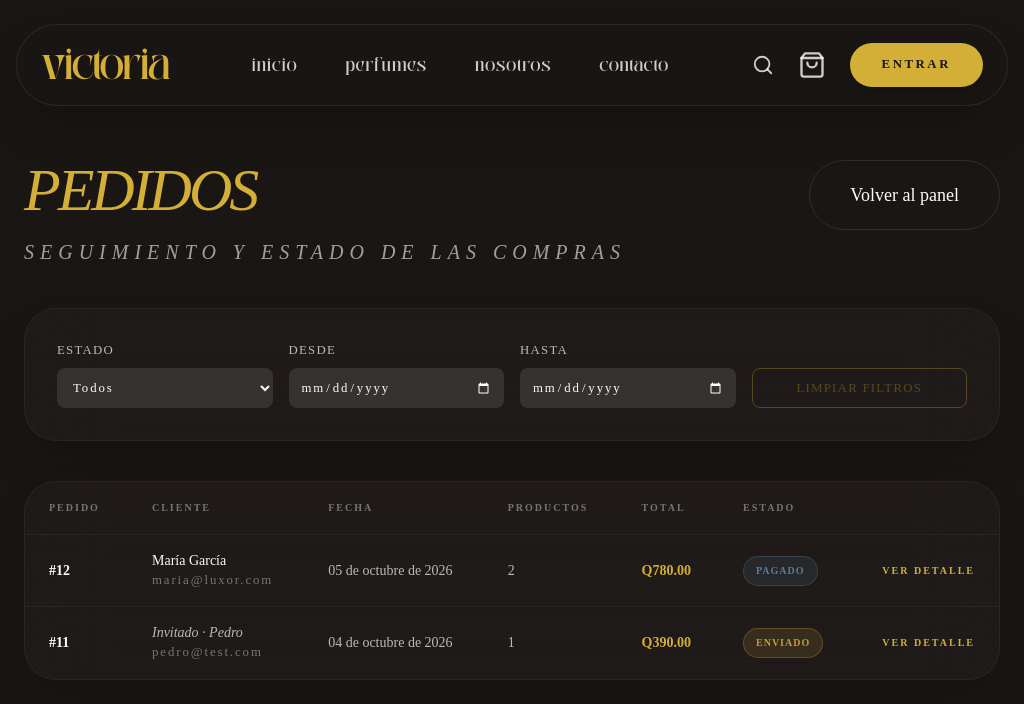
Test: AdminOrdersPage › cancelar pide confirmación, avisa del stock y después actualiza la lista
Step 1. Click the text "#12" → (52, 570), box [25, 535, 128, 607]
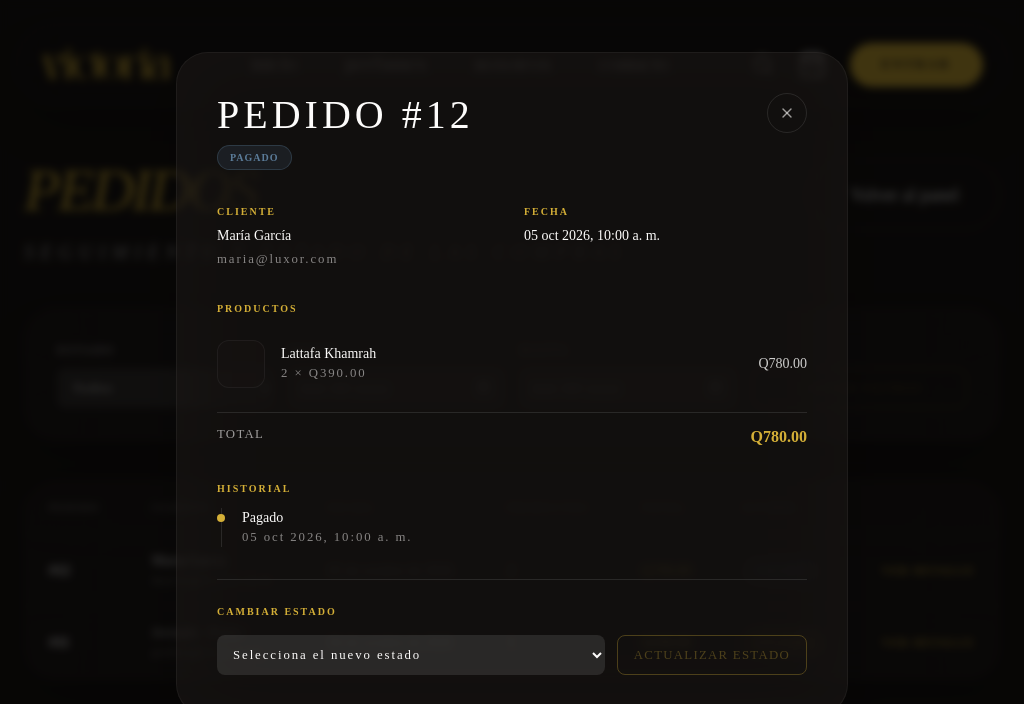
Step 2. Select "Cancelado" in the dropdown named "Nuevo estado" → (411, 655), box [217, 635, 605, 675]
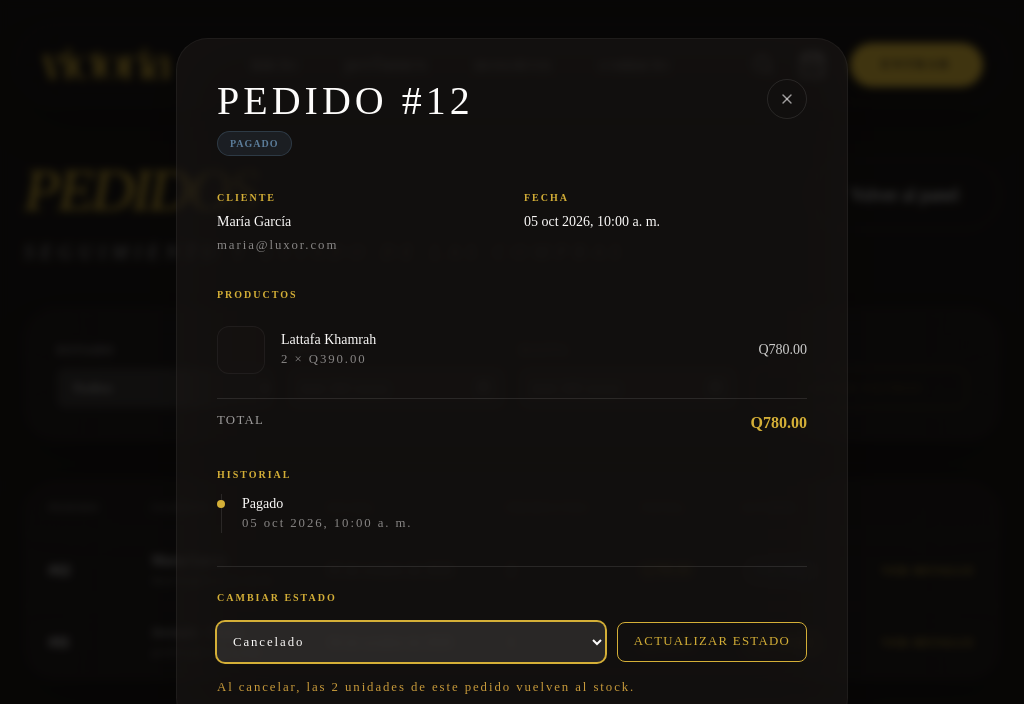
Expected: the text "Al cancelar, las 2 unidades de este pedido vuelven al stock." is shown, [217, 680, 635, 694]
Step 3. Click the button "Actualizar estado" → (712, 642), box [617, 622, 807, 662]
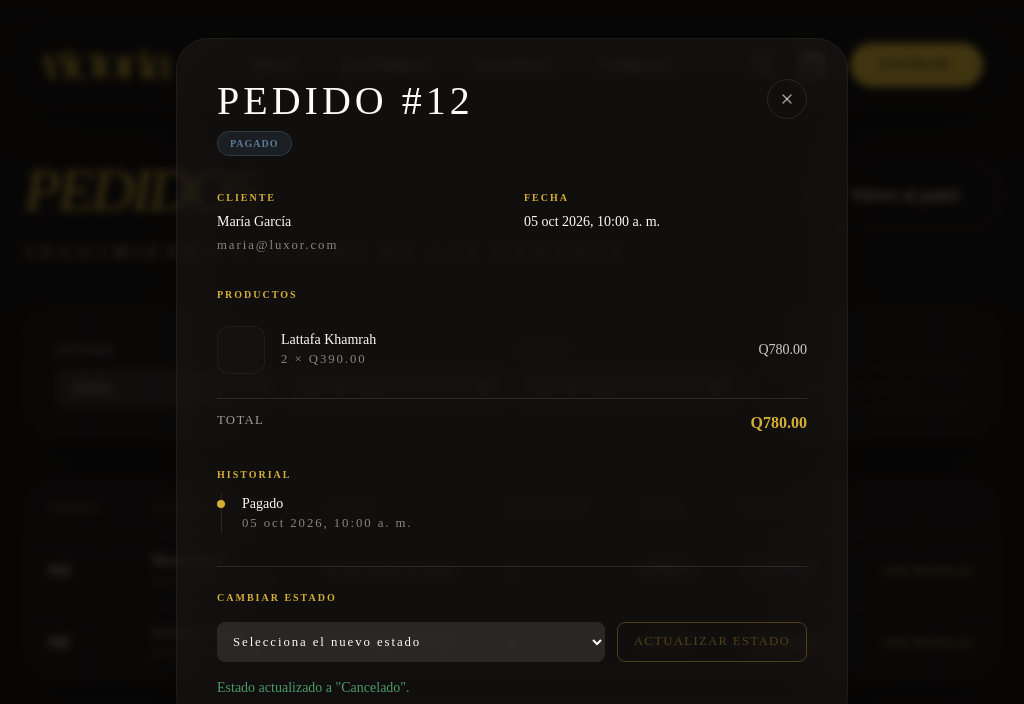
Expected: the text "Estado actualizado a \"Cancelado\"." is shown, [217, 680, 410, 695]
